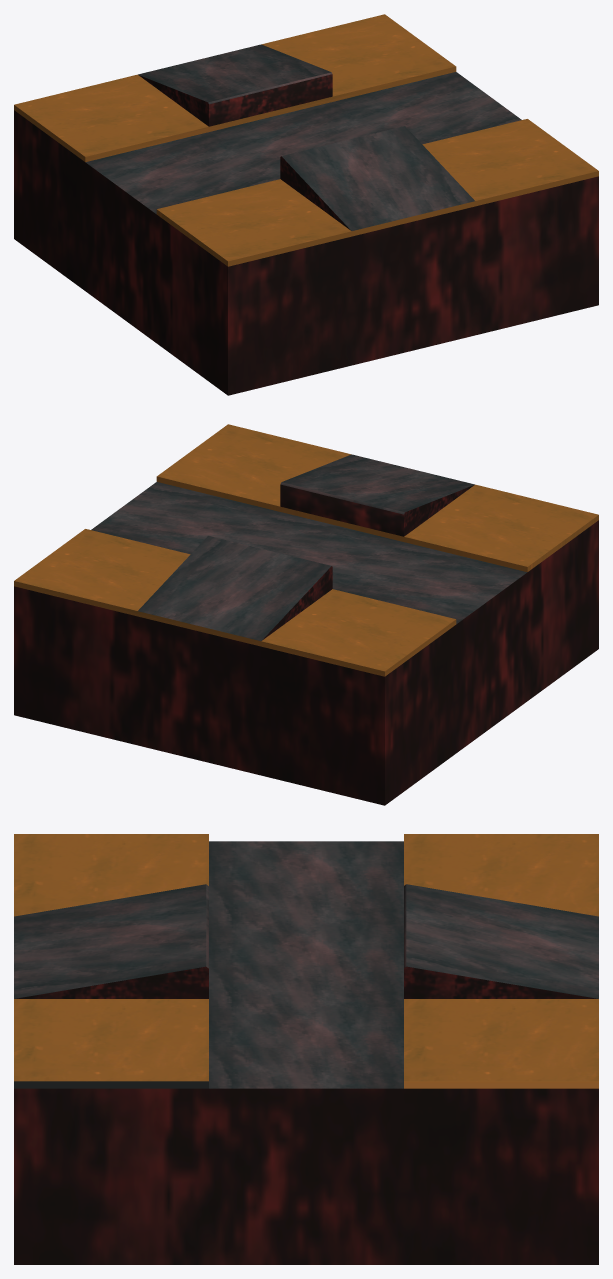
File: road-cross.obj
3 views of the same model, one above another, from view 1: azimuth 30°, elevation 25°; view 2: azimuth 150°, elevation 25°; view 3: azimuth 270°, elevation 25° (orthographic). The views are drawn at different scales.
Visible parts, largest first — view 1: cross; view 2: cross; view 3: cross.
Boxes of the visible parts, left/top/right/bottom form: cross: left=14, top=14, right=598, bottom=395; cross: left=14, top=424, right=598, bottom=805; cross: left=14, top=834, right=598, bottom=1264.
Size of the model in its own units: 1 by 0.4071 by 1.
Materials: 3 (3 with a texture image).
